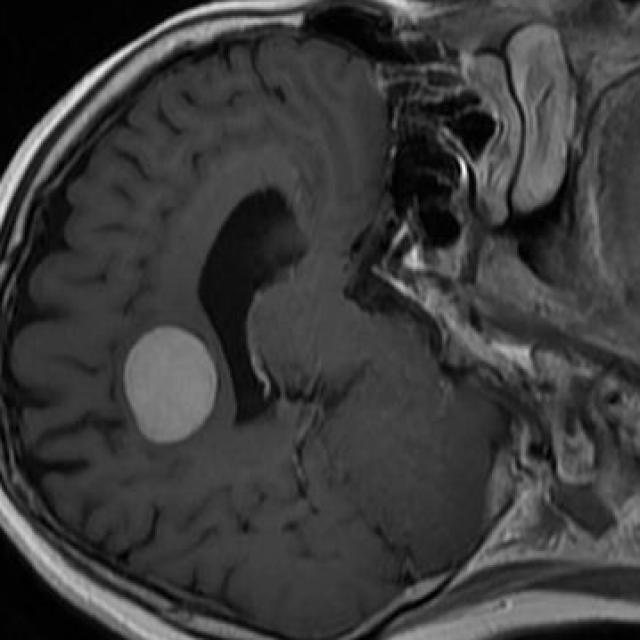meningioma: (121, 326, 216, 446)
